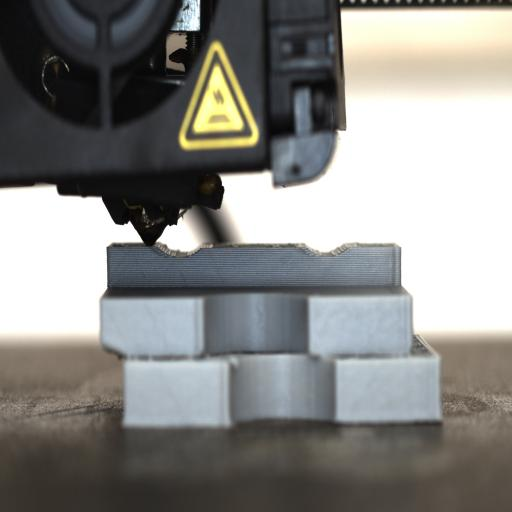layer_shift: (101, 342, 442, 368)
